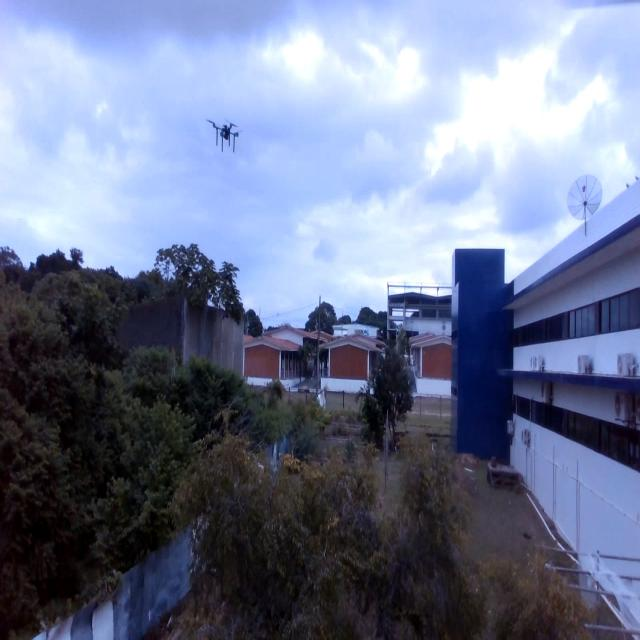-uav-: (202, 107, 248, 167)
